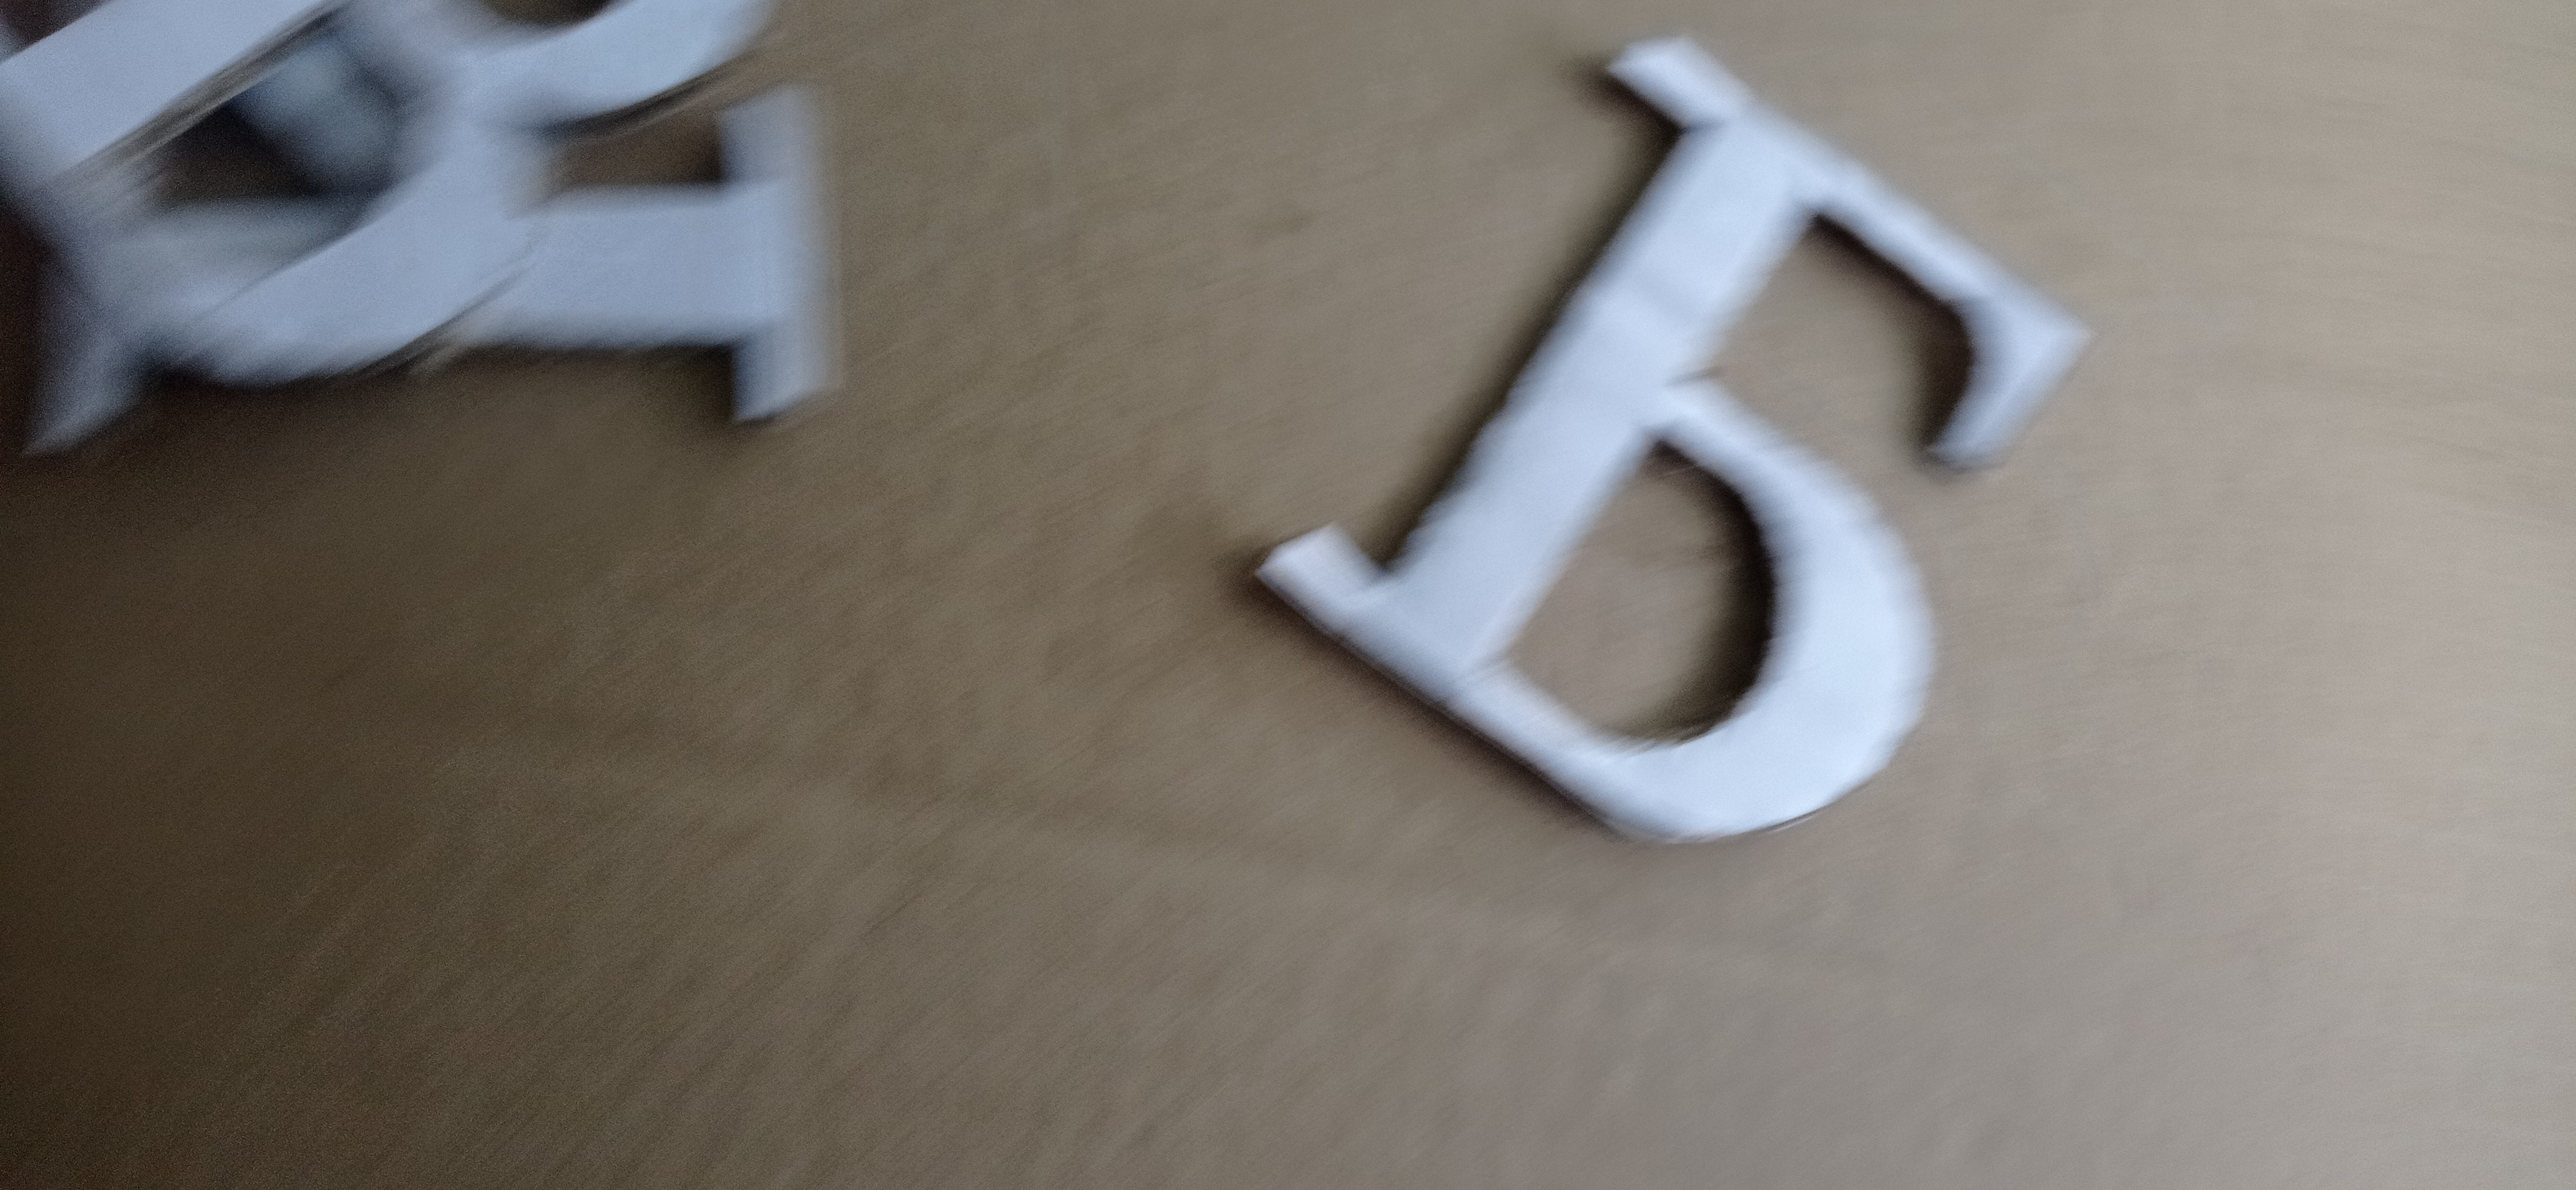b: (1260, 28, 2098, 851)
